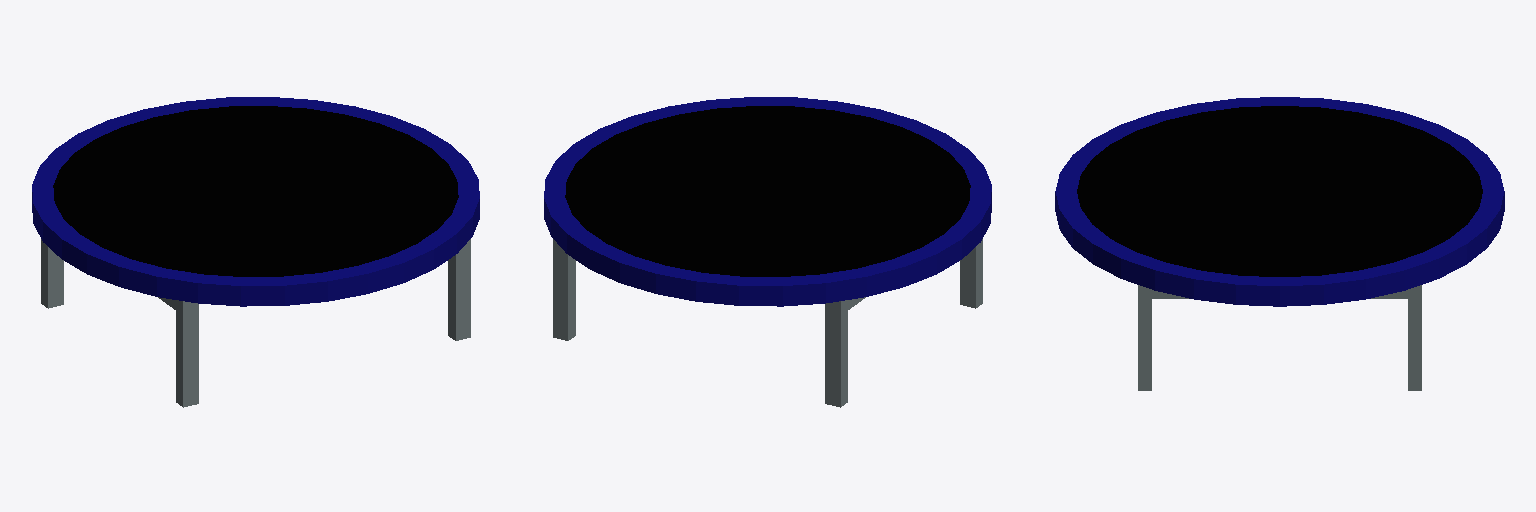
The model's file is trampoline.obj.
3 views of the same model, side by side, from view 1: azimuth 30°, elevation 25°; view 2: azimuth 150°, elevation 25°; view 3: azimuth 270°, elevation 25° (orthographic).
Visible parts, largest first — view 1: Cylinder; view 2: Cylinder; view 3: Cylinder.
Part boxes in pixels (x1,y1,x2,y2): Cylinder: (32,97,479,407); Cylinder: (544,97,991,407); Cylinder: (1055,97,1504,390).
Size of the model in its own units: 2 by 0.6335 by 2.